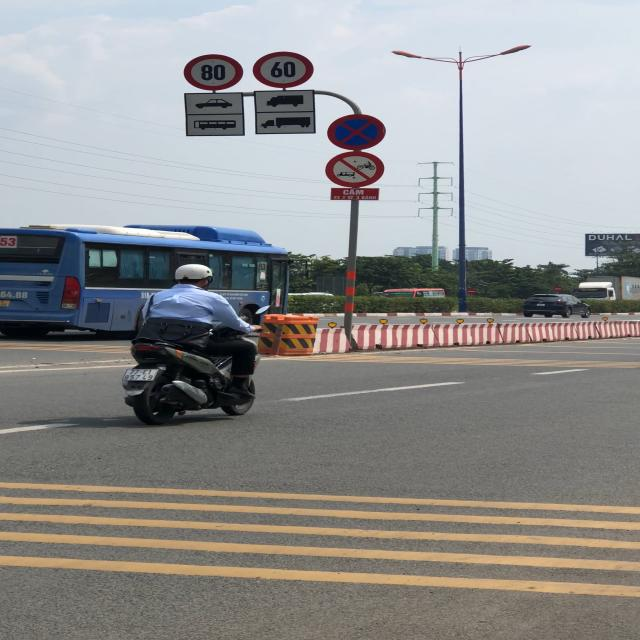Bien bao cam dung xe va do xe: (326, 111, 387, 151)
Bien bao toc do toi da cho phep: (184, 52, 246, 92), (252, 52, 316, 90)
